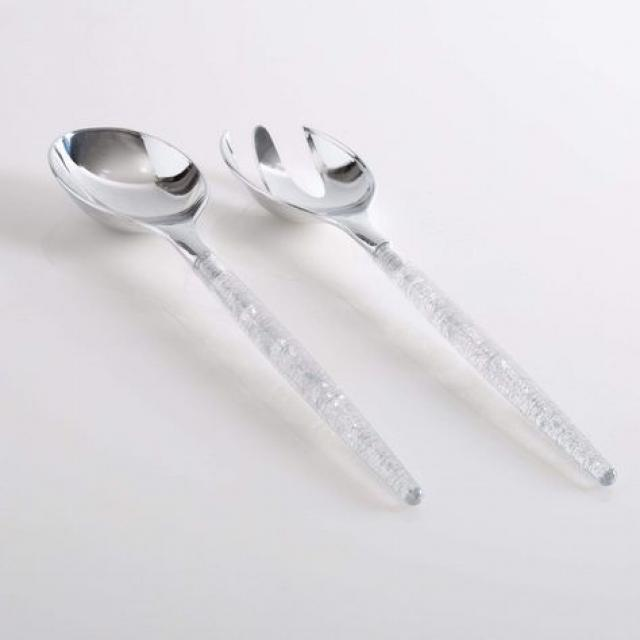spoon: (207, 111, 631, 501), (31, 122, 436, 516)
